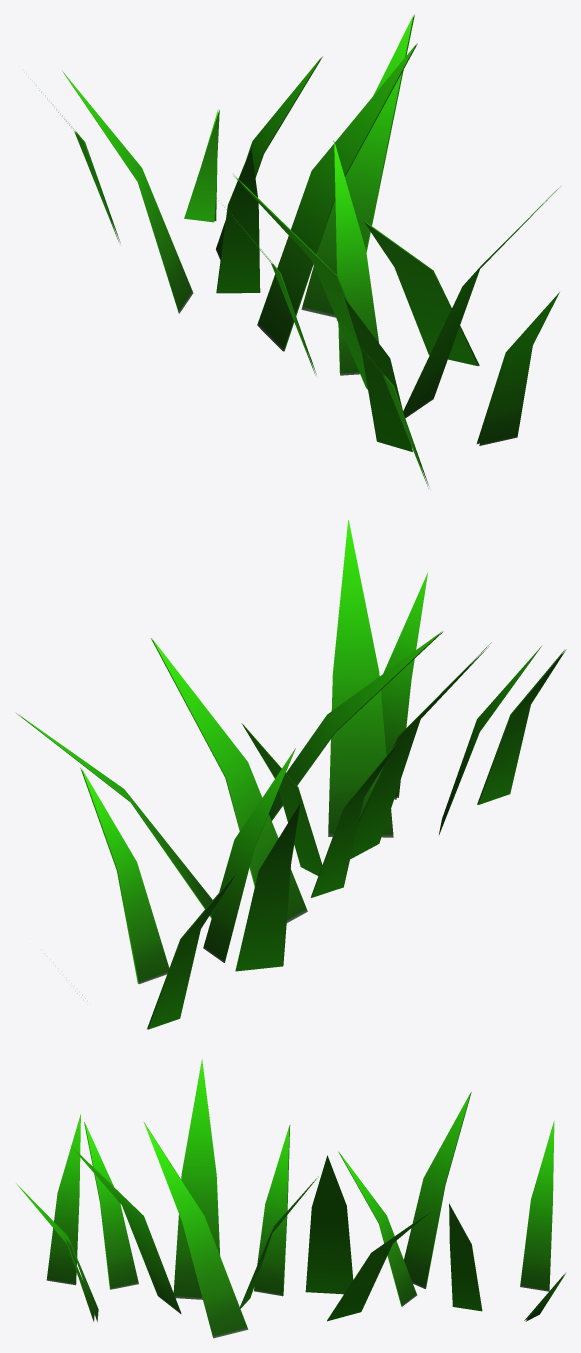
File: Vegetation.glb
The picture shows the model from 3 angles, top to bottom: view 1: azimuth 30°, elevation 25°; view 2: azimuth 150°, elevation 25°; view 3: azimuth 270°, elevation 25°; orthographic projection. The views are drawn at different scales.
Visible parts, largest first — view 1: Vegetation; view 2: Vegetation; view 3: Vegetation.
Part boxes in pixels (<box>): Vegetation: <box>36,14,560,488</box>; Vegetation: <box>16,520,566,1029</box>; Vegetation: <box>16,1059,565,1338</box>.
Size of the model in its own units: 0.2662 by 0.1943 by 0.5123.
1 material, 1 textured.
